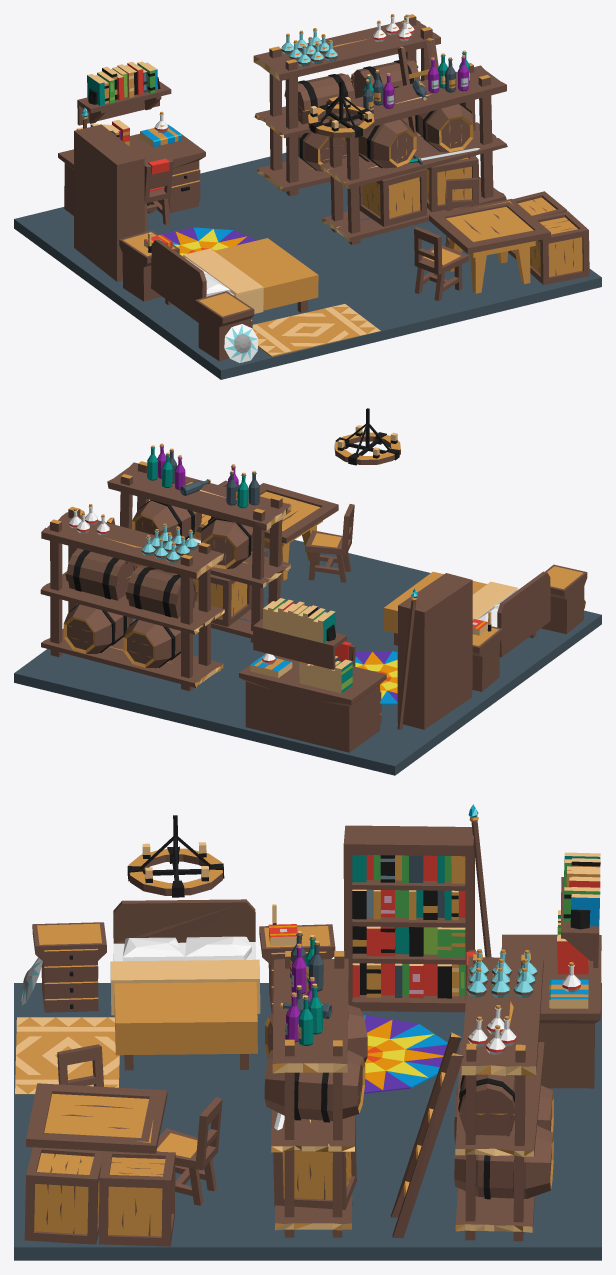
File: inn-by-anonymous-haOYC4y007.glb
3 views of the same model, one above another, from view 1: azimuth 30°, elevation 25°; view 2: azimuth 150°, elevation 25°; view 3: azimuth 270°, elevation 25° (orthographic). The views are drawn at different scales.
Parts seen in each view (by area): view 1: group967687838, group789705730, group1872943741, group1677561755, group1046758829, group1885730613, group1307355494, group1621347884, group648476929, group1511713077, group124115417, group933637380 (+15 smaller); view 2: group967687838, group1046758829, group1307355494, group1677561755, group789705730, group1872943741, group1621347884, group232425114, group1885730613, group1267300325, group1513854687, group933637380 (+9 smaller); view 3: group967687838, group1677561755, group1872943741, group1046758829, group789705730, group1307355494, group1885730613, group1054941695, group1511713077, group648476929, group933637380, group677805733 (+14 smaller).
Boxes of the visible parts, <box> form: group967687838: <box>14,152,601,379</box>; group789705730: <box>320,63,507,244</box>; group1872943741: <box>151,238,318,322</box>; group1677561755: <box>74,124,144,281</box>; group1046758829: <box>253,14,440,196</box>; group1885730613: <box>429,199,550,293</box>; group1307355494: <box>58,119,205,215</box>; group1621347884: <box>77,61,171,125</box>; group648476929: <box>252,304,380,356</box>; group1511713077: <box>530,211,589,285</box>; group124115417: <box>359,169,426,226</box>; group933637380: <box>195,291,254,361</box>; group967687838: <box>14,540,601,775</box>; group1046758829: <box>40,506,224,691</box>; group1307355494: <box>239,653,386,752</box>; group1677561755: <box>397,573,472,729</box>; group789705730: <box>107,461,291,642</box>; group1872943741: <box>383,571,550,657</box>; group1621347884: <box>253,598,346,669</box>; group232425114: <box>65,548,135,600</box>; group1885730613: <box>211,483,338,580</box>; group1267300325: <box>63,604,132,653</box>; group1513854687: <box>125,565,198,618</box>; group933637380: <box>541,564,587,634</box>; group967687838: <box>14,983,601,1260</box>; group1677561755: <box>343,825,474,1012</box>; group1872943741: <box>110,899,260,1070</box>; group1046758829: <box>455,954,544,1241</box>; group789705730: <box>271,951,354,1237</box>; group1307355494: <box>501,910,601,1088</box>; group1885730613: <box>26,1083,167,1153</box>; group1054941695: <box>98,1151,175,1246</box>; group1511713077: <box>24,1147,104,1244</box>; group648476929: <box>15,1017,119,1094</box>; group933637380: <box>32,922,106,1012</box>; group677805733: <box>363,1015,447,1093</box>.
Bounding box in the file's own units: 0.84 × 0.4498 × 0.79.
